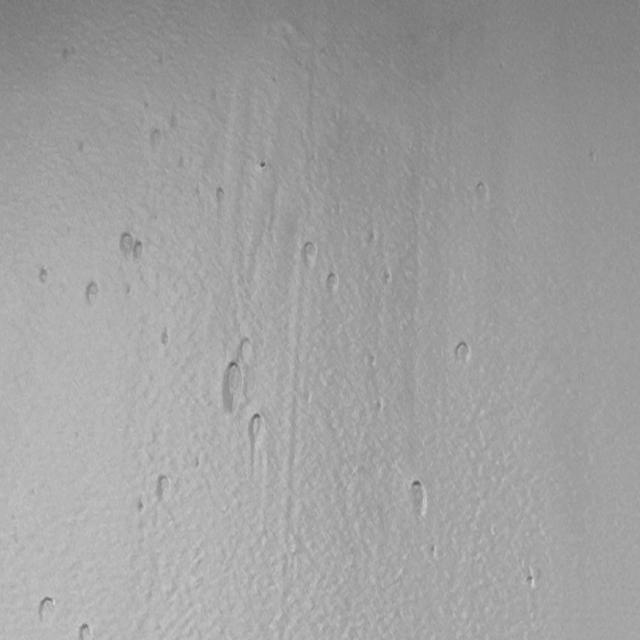pin holes: (405, 478, 432, 522), (218, 366, 245, 407), (36, 594, 60, 625), (246, 412, 267, 443), (82, 278, 103, 308), (152, 474, 174, 502), (471, 178, 492, 207), (452, 340, 474, 367), (299, 241, 319, 269), (321, 270, 341, 298), (236, 336, 256, 364), (118, 233, 136, 258), (38, 264, 55, 288), (148, 126, 164, 150), (77, 621, 96, 640), (132, 238, 145, 261), (523, 572, 537, 592), (216, 185, 228, 207), (134, 498, 147, 518), (159, 330, 172, 348), (381, 270, 393, 288), (259, 159, 271, 174), (368, 356, 379, 372), (272, 74, 280, 88), (158, 55, 165, 70), (62, 49, 68, 66), (376, 400, 383, 414), (71, 43, 77, 59), (195, 457, 202, 470), (77, 142, 84, 154), (126, 285, 131, 296)
